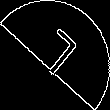L_SW: (29, 26, 81, 84)
